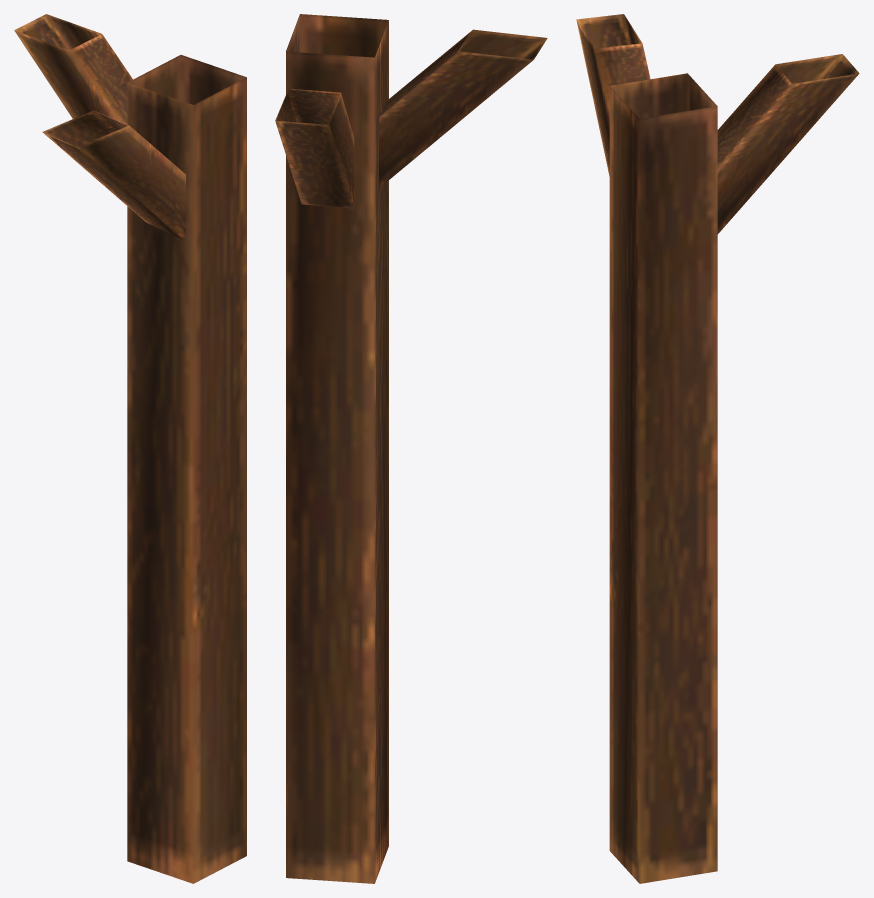
File: SWORDLIGHT20_JAILPLATSUPPORT69.fbx
The picture shows the model from 3 angles, left to right: view 1: azimuth 30°, elevation 25°; view 2: azimuth 150°, elevation 25°; view 3: azimuth 270°, elevation 25°; orthographic projection. The views are drawn at different scales.
Parts seen in each view (by area): view 1: SWORDLIGHT20_JAILPLATSUPPORT69; view 2: SWORDLIGHT20_JAILPLATSUPPORT69; view 3: SWORDLIGHT20_JAILPLATSUPPORT69.
Boxes of the visible parts, bbox=[...] form: SWORDLIGHT20_JAILPLATSUPPORT69: bbox=[14, 14, 246, 883]; SWORDLIGHT20_JAILPLATSUPPORT69: bbox=[275, 14, 547, 883]; SWORDLIGHT20_JAILPLATSUPPORT69: bbox=[576, 14, 859, 883].
Size of the model in its own units: 11567 by 40636 by 13583.
Materials: 1 (1 with a texture image).
